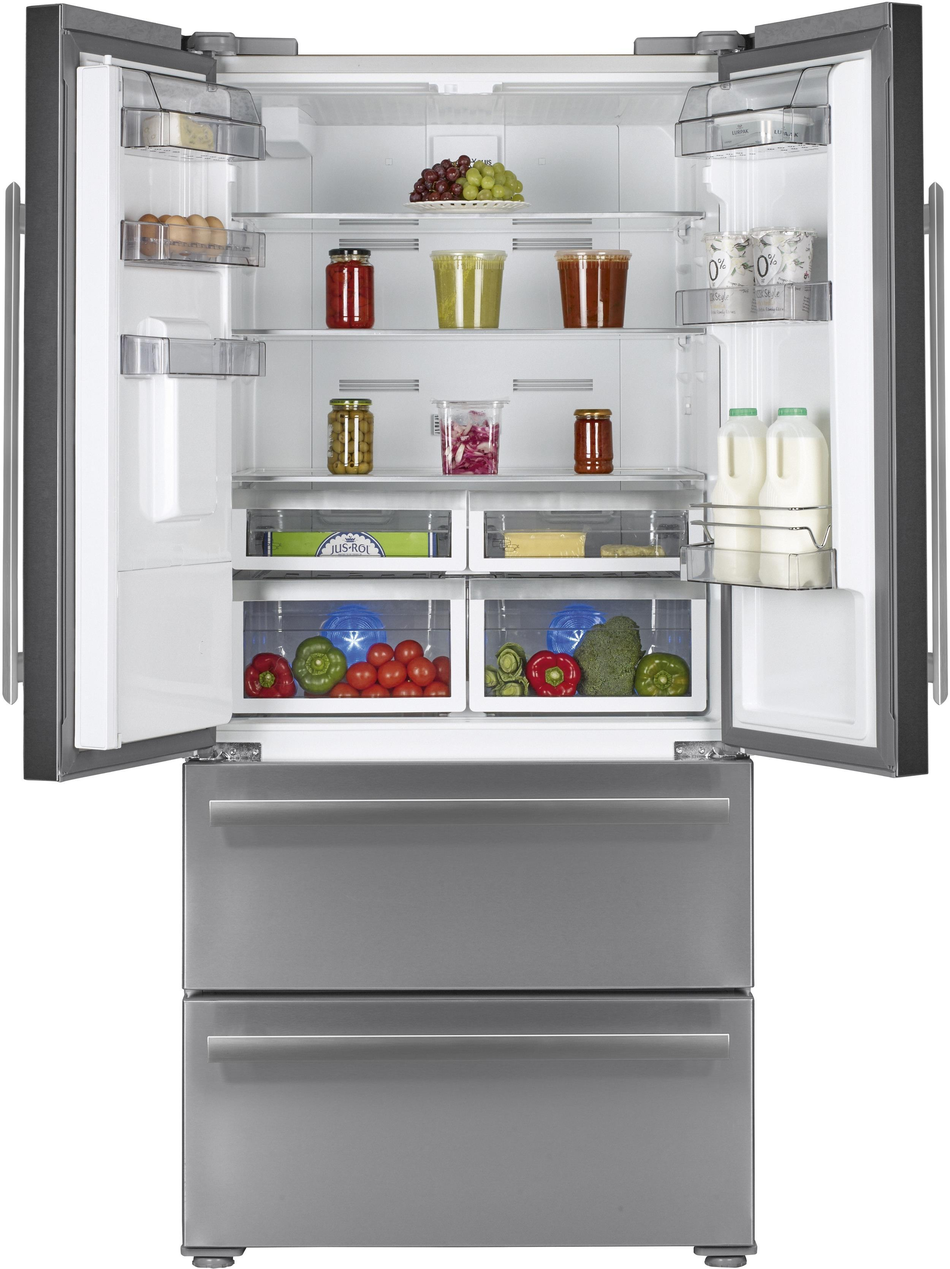bell pepper: (507, 627, 594, 727)
bell peppers: (232, 620, 370, 704)
eggs: (131, 177, 267, 271)
grapes: (367, 116, 559, 236)
milk: (711, 373, 869, 612)
tomato: (361, 623, 490, 704)
